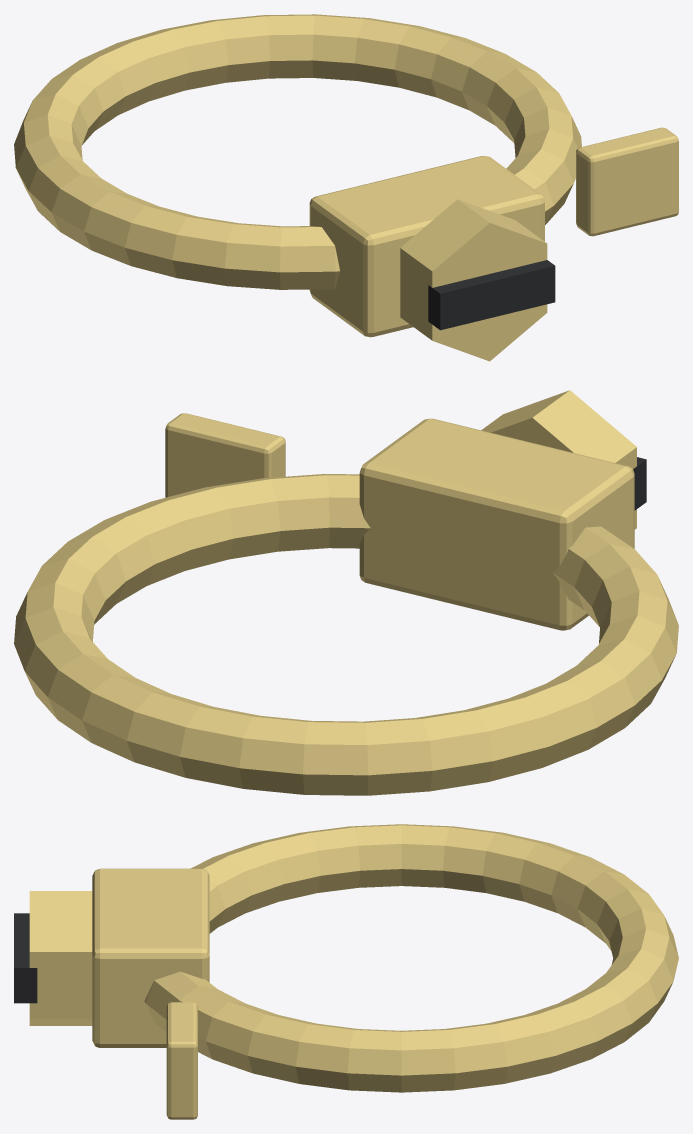
The model's file is CLAMP.glb.
The picture shows the model from 3 angles, top to bottom: view 1: azimuth 30°, elevation 25°; view 2: azimuth 150°, elevation 25°; view 3: azimuth 270°, elevation 25°; orthographic projection. The views are drawn at different scales.
Visible parts, largest first — view 1: CLAMP_band, CLAMP_housing, CLAMP_hex, CLAMP_tail, CLAMP_slot; view 2: CLAMP_band, CLAMP_housing, CLAMP_tail, CLAMP_hex, CLAMP_slot; view 3: CLAMP_band, CLAMP_housing, CLAMP_hex, CLAMP_tail, CLAMP_slot.
Part boxes in pixels (x1,y1,x2,y2): CLAMP_band: (14, 14, 581, 289); CLAMP_housing: (309, 156, 544, 337); CLAMP_hex: (400, 199, 547, 361); CLAMP_tail: (576, 127, 678, 236); CLAMP_slot: (428, 260, 555, 330); CLAMP_band: (14, 474, 678, 795); CLAMP_housing: (359, 418, 634, 630); CLAMP_tail: (165, 413, 285, 497); CLAMP_hex: (481, 390, 636, 529); CLAMP_slot: (633, 457, 646, 510); CLAMP_band: (144, 824, 678, 1092); CLAMP_housing: (92, 868, 209, 1047); CLAMP_hex: (29, 891, 92, 1025); CLAMP_tail: (166, 1002, 197, 1119); CLAMP_slot: (14, 913, 37, 1003).
Bounding box in the file's own units: 0.0729 × 0.019 × 0.0849.
